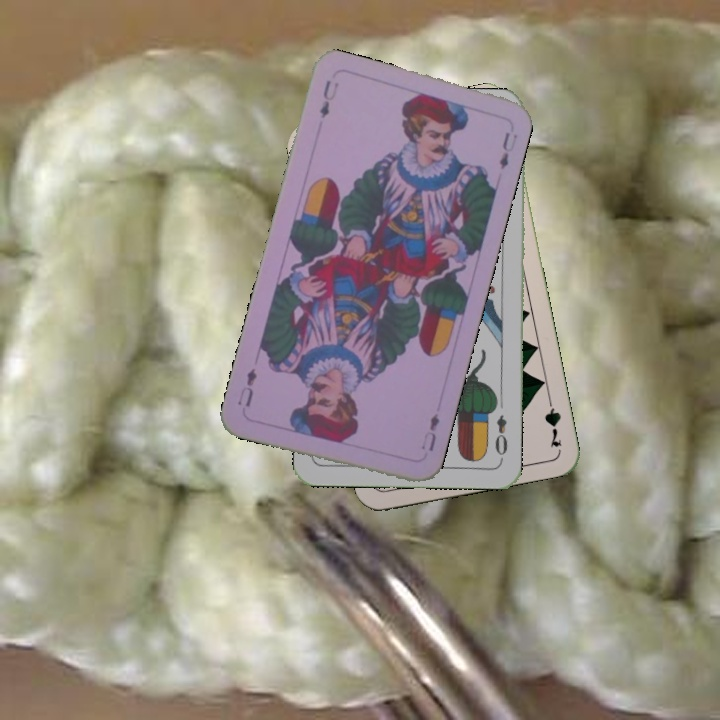EO: (491, 411, 510, 463)
EU: (315, 76, 342, 121), (417, 409, 443, 454)
G7: (540, 391, 564, 450)
